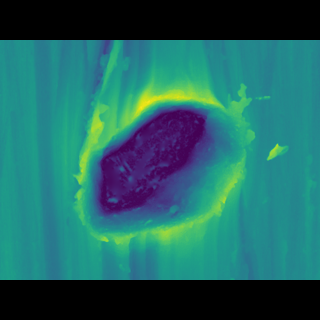Loch: (61, 99, 251, 235)
